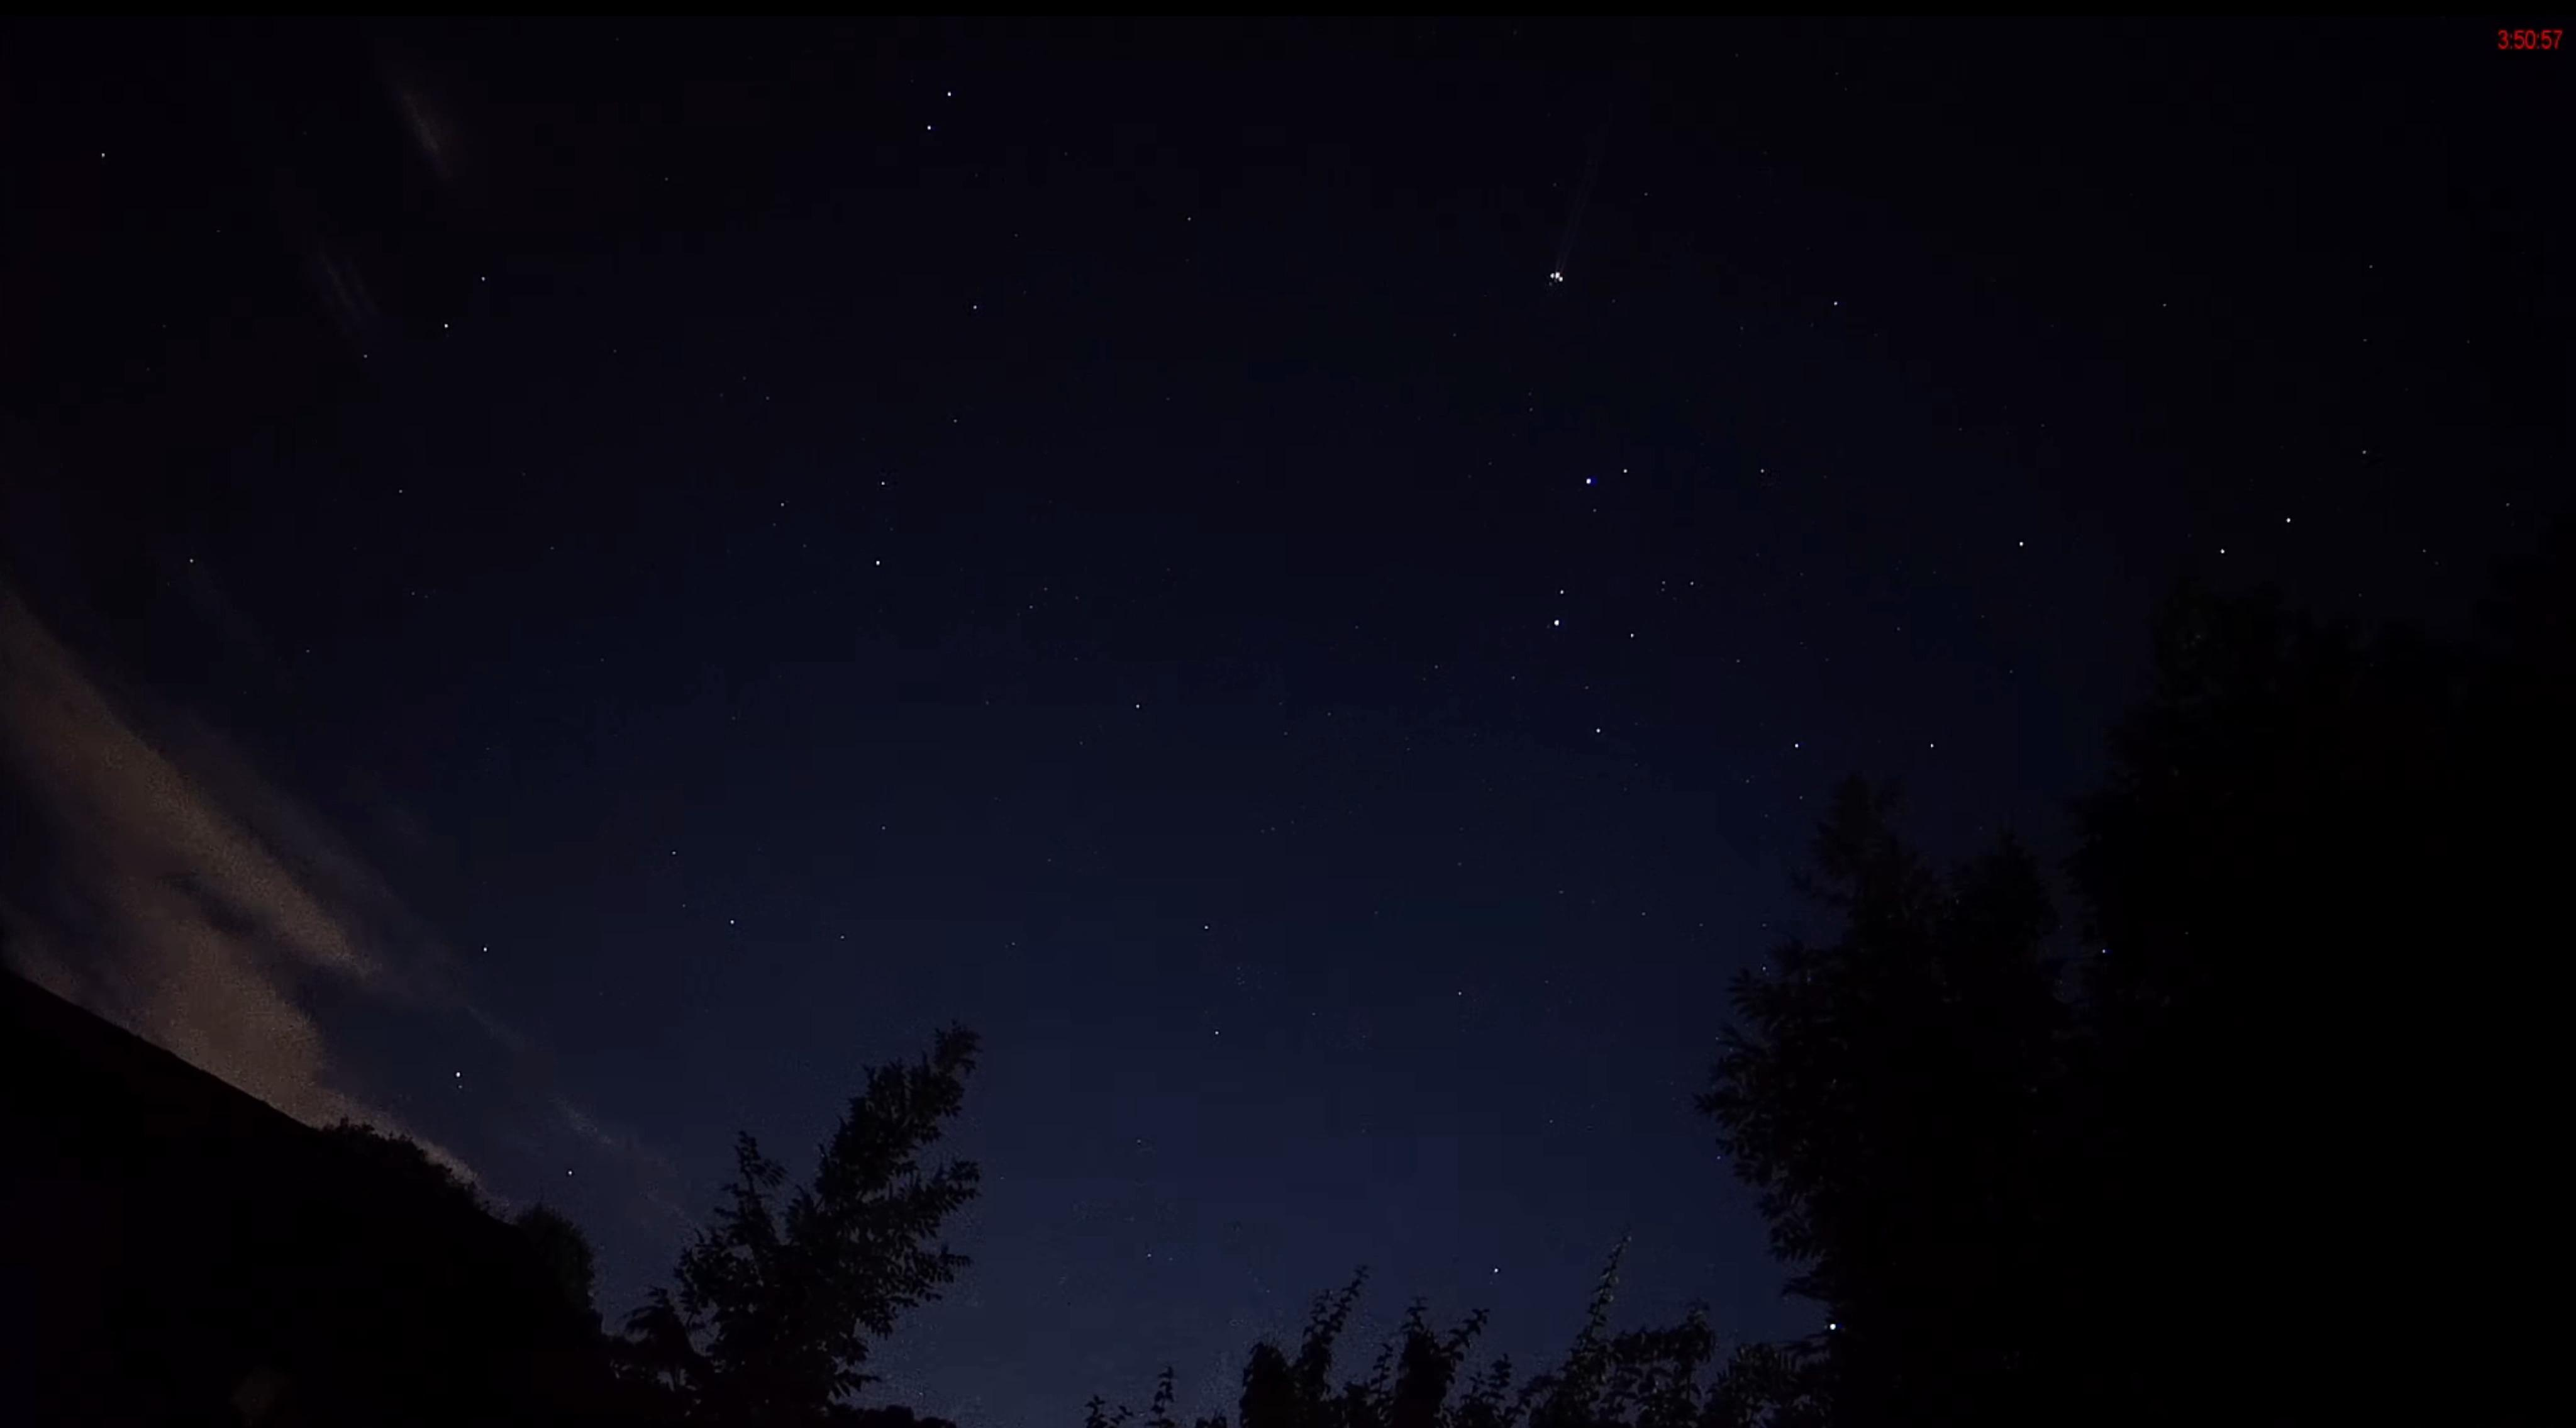Plane: (1522, 251, 1592, 311)
